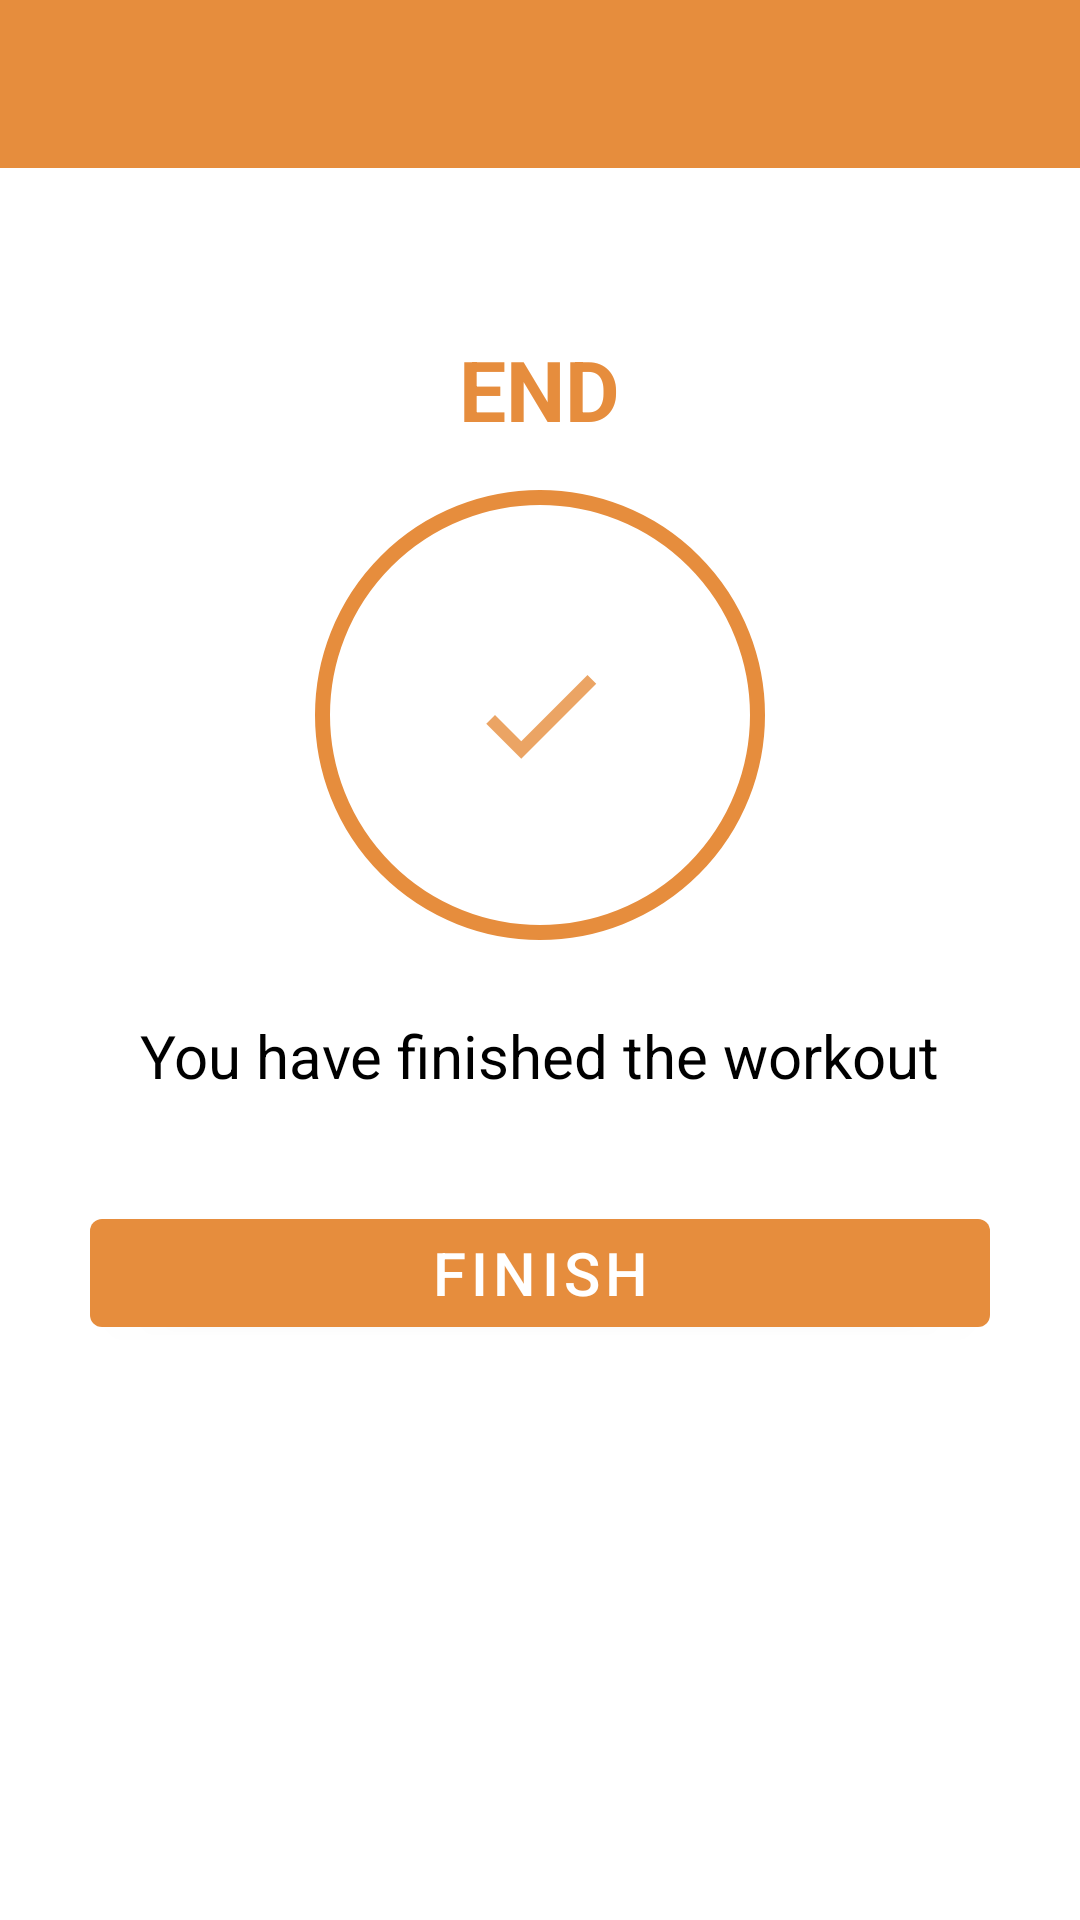

Where icons sit on this 1080 × 1920 app screen, as detection(x1, y1, x2, y2):
Finish Image: detection(486, 675, 596, 759)
